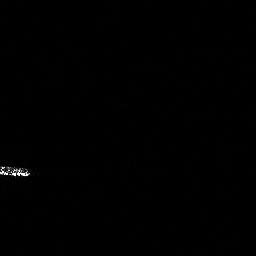ship: (1, 165, 30, 177)
